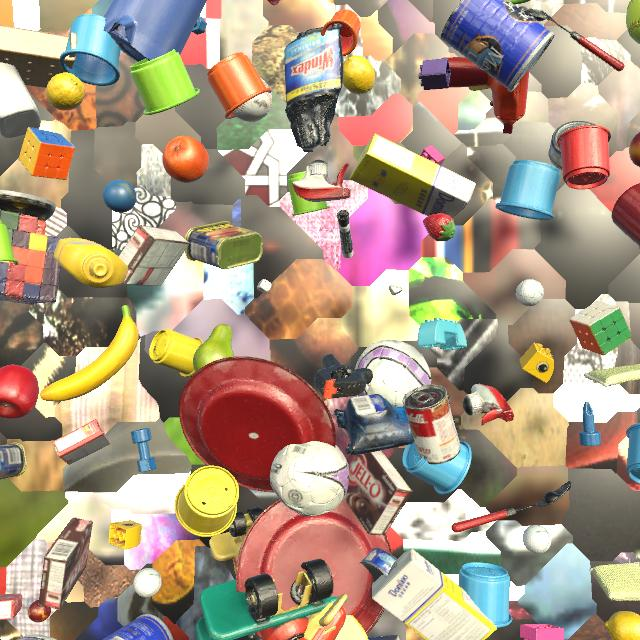ycb_002_master_chef_can: (441, 0, 555, 92), (103, 614, 174, 640)
ycb_004_sugar_box: (372, 548, 497, 640), (349, 133, 476, 218)
ycb_005_tomato_soup_can: (403, 384, 461, 464)
ycb_006_mustard_bottle: (53, 238, 128, 288)
ycb_007_tuna_fish_can: (549, 121, 596, 170), (360, 548, 397, 582)
ycb_008_pudding_box: (344, 451, 413, 535), (38, 517, 93, 610), (118, 225, 190, 286)
ycb_009_gelatin_box: (52, 419, 110, 465), (0, 593, 23, 620)
ycb_010_potted_meat_can: (185, 221, 263, 269), (0, 442, 27, 480)
ycb_011_banana: (40, 305, 139, 401)
ycb_012_strawberry: (423, 213, 456, 242)
ycb_013_apple: (0, 365, 39, 419)
ycb_014_lemon: (46, 73, 85, 111), (343, 55, 375, 95), (605, 611, 640, 640)
ycb_015_peach: (629, 132, 640, 167)
ycb_016_pear: (193, 324, 234, 372)
ycb_017_orange: (162, 136, 209, 183)
